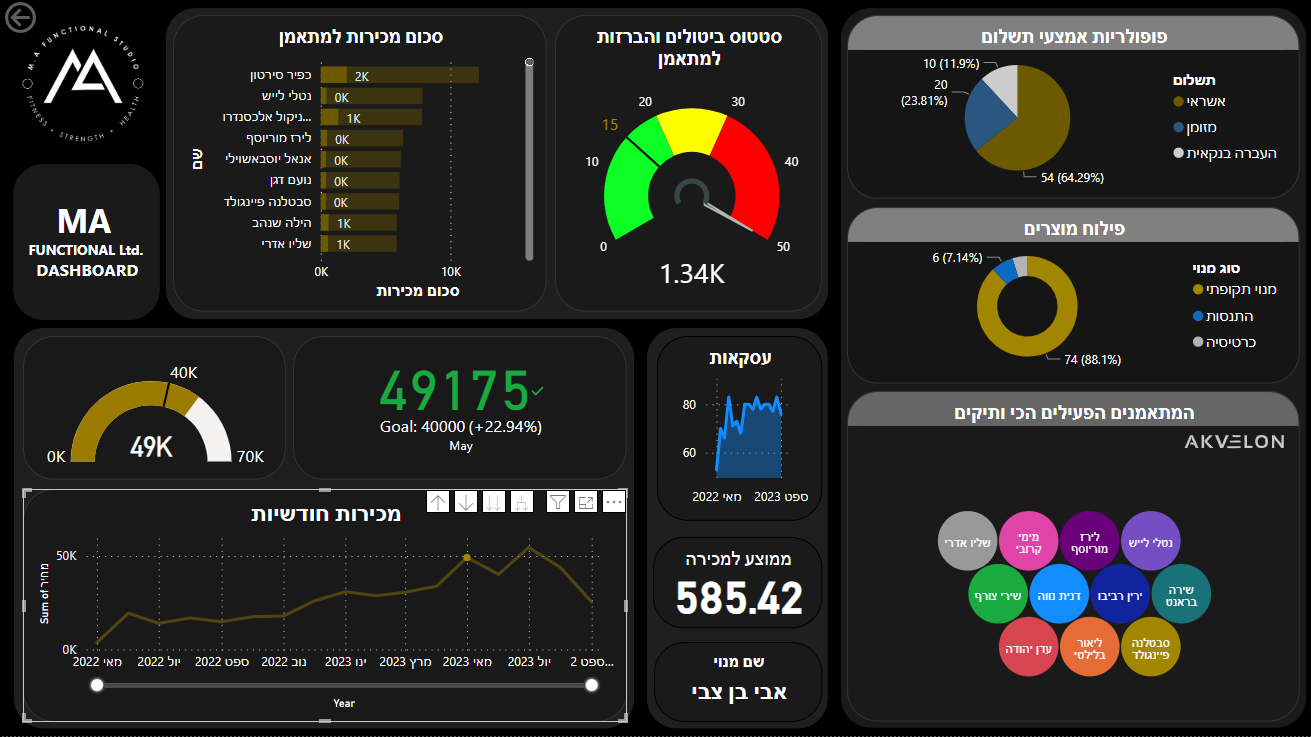

This screenshot's page, from the dashboard's own definition file:
{"tool":"powerbi","page":{"name":"מכירות","canvas":[1280,720],"ordinal":1},"visuals":[{"type":"textbox","box":[13.1,321.3,606.2,392],"z":0},{"type":"image","box":[0,9.7,160.7,149],"z":1000},{"type":"lineChart","title":"מכירות חודשיות","fields":{"Y":["Sum(מכירות.מחיר)"],"Category":["מכירות.תאריך.Variation.Date Hierarchy.Year","מכירות.תאריך.Variation.Date Hierarchy.Month"]},"box":[22.2,478.9,589,227.3],"z":2000},{"type":"gauge","title":"מכירות חודשיות","fields":{"Y":["Sum(מכירות.מחיר)"],"MaxValue":["מכירות.Max"],"MinValue":["מכירות.Min"],"TargetValue":["מכירות.Target"]},"box":[22.4,330.2,256.2,140.3],"z":3000},{"type":"kpi","title":"מכירות חודשיות","fields":{"Goal":["מכירות.Target"],"Indicator":["Sum(מכירות.מחיר)"],"TrendLine":["מכירות.תאריך.Variation.Date Hierarchy.Month"]},"box":[285.4,330.2,325.4,140.3],"z":4000},{"type":"actionButton","box":[0,0,100.3,39.9],"z":5000},{"type":"textbox","box":[818.3,9.7,454.9,703.3],"z":6000},{"type":"pieChart","title":"פופולריות אמצעי תשלום","fields":{"Y":["CountNonNull(מכירות.תשלום)"],"Category":["מכירות.תשלום"]},"box":[825.1,17.5,441.3,179.2],"z":7000},{"type":"donutChart","title":"פילוח מוצרים","fields":{"Category":["מכירות.סוג מנוי"],"Y":["CountNonNull(מכירות.סוג מנוי)"]},"box":[825.1,204.6,441.3,172.4],"z":8000},{"type":"textbox","box":[629.3,321.5,178.3,391.6],"z":9000},{"type":"bubbleChartEEDCDFA388784AEEAB47972BC1626196","title":"המתאמנים הפעילים הכי ותיקים","fields":{"category":["נתוני לקוחות.שם"],"grouping":["נתוני לקוחות.ותק (שנים)"]},"box":[825.1,383.8,441.3,322.4],"z":10000},{"type":"textbox","box":[160.7,9.7,646.8,304.9],"z":11000},{"type":"barChart","title":"סכום מכירות למתאמן","fields":{"Category":["מכירות.שם "],"Y":["Sum(מכירות.מחיר)"]},"box":[168.5,17.5,364.3,289.3],"z":12000},{"type":"Tachometer1474636471549","title":"סטטוס ביטולים והברזות למתאמן","fields":{"Y":["CountNonNull(נוכחות.#)"],"Range2StartValue":["נוכחות.Start2"],"Range3StartValue":["נוכחות.Start3"],"TargetValue":["נוכחות.Start1"],"StartValue":["מכירות.Min"],"EndValue":["נוכחות.End"]},"box":[540.6,17.5,260.1,289.3],"z":13000},{"type":"textbox","box":[12.7,162.7,143.2,152],"z":14000},{"type":"stackedAreaChart","title":"עסקאות","fields":{"Category":["נוכחות.תאריך שיעור.Variation.Date Hierarchy.Year","נוכחות.תאריך שיעור.Variation.Date Hierarchy.Month"],"Y":["CountNonNull(מכירות.מחיר)"]},"box":[640,330.2,160.7,180.2],"z":15000},{"type":"card","title":"ממוצע למכירה","fields":{"Values":["Avg(מכירות.מחיר)"]},"box":[636.1,526,164.6,88.6],"z":16000},{"type":"card","title":"שם מנוי","fields":{"Values":["Min(נוכחות.שם )"]},"box":[637.1,628.3,163.7,77.9],"z":17000}]}

Visuals, with their boxes in screenshot pixels (x1, y1, x2, y2), scaled from the page's 1280x720 canvas onto the 1311x737 screenshot:
textbox: [left=13, top=329, right=634, bottom=730]
image: [left=0, top=10, right=165, bottom=162]
"מכירות חודשיות" lineChart: [left=23, top=490, right=626, bottom=723]
"מכירות חודשיות" gauge: [left=23, top=338, right=285, bottom=482]
"מכירות חודשיות" kpi: [left=292, top=338, right=626, bottom=482]
actionButton: [left=0, top=0, right=103, bottom=41]
textbox: [left=838, top=10, right=1304, bottom=730]
"פופולריות אמצעי תשלום" pieChart: [left=845, top=18, right=1297, bottom=201]
"פילוח מוצרים" donutChart: [left=845, top=209, right=1297, bottom=386]
textbox: [left=645, top=329, right=827, bottom=730]
"המתאמנים הפעילים הכי ותיקים" bubbleChartEEDCDFA388784AEEAB47972BC1626196: [left=845, top=393, right=1297, bottom=723]
textbox: [left=165, top=10, right=827, bottom=322]
"סכום מכירות למתאמן" barChart: [left=173, top=18, right=546, bottom=314]
"סטטוס ביטולים והברזות למתאמן" Tachometer1474636471549: [left=554, top=18, right=820, bottom=314]
textbox: [left=13, top=167, right=160, bottom=322]
"עסקאות" stackedAreaChart: [left=656, top=338, right=820, bottom=522]
"ממוצע למכירה" card: [left=652, top=538, right=820, bottom=629]
"שם מנוי" card: [left=653, top=643, right=820, bottom=723]
